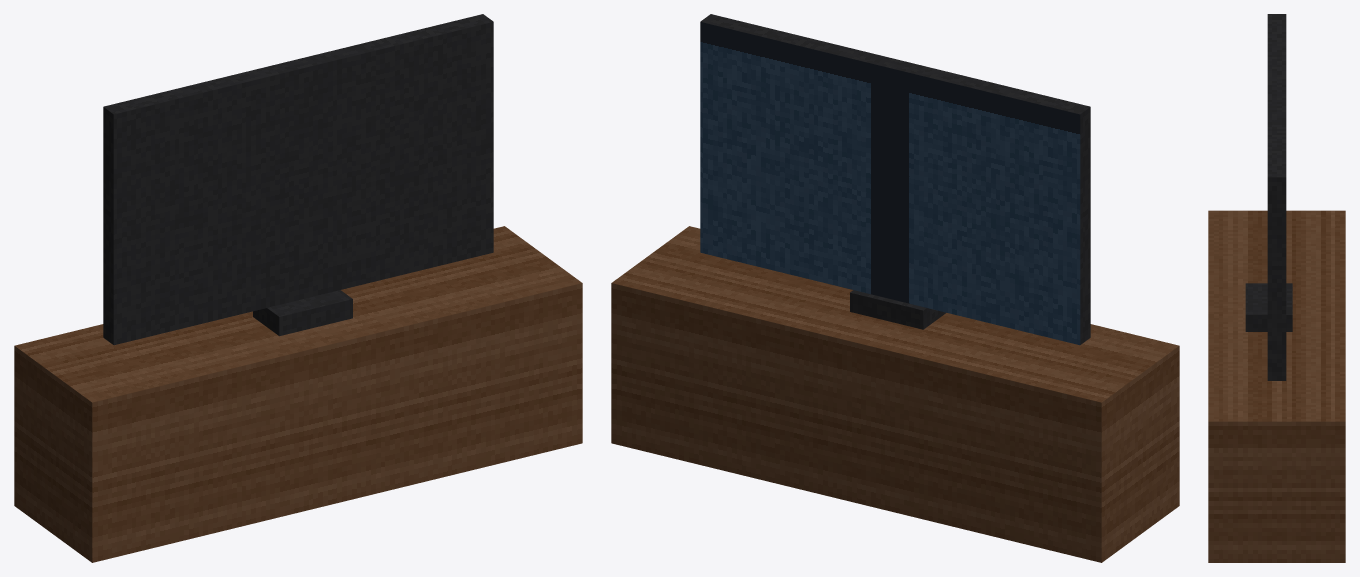
File: tv_stand.glb
3 views of the same model, side by side, from view 1: azimuth 30°, elevation 25°; view 2: azimuth 150°, elevation 25°; view 3: azimuth 270°, elevation 25° (orthographic). The views are drawn at different scales.
Parts seen in each view (by area): view 1: tv_stand; view 2: tv_stand; view 3: tv_stand.
Part boxes in pixels (x1,y1,x2,y2): tv_stand: (14,14,582,562); tv_stand: (611,14,1179,562); tv_stand: (1208,14,1345,562).
Bounding box in the file's own units: 1.6 × 1.28 × 0.44.
3 materials, 3 textured.
